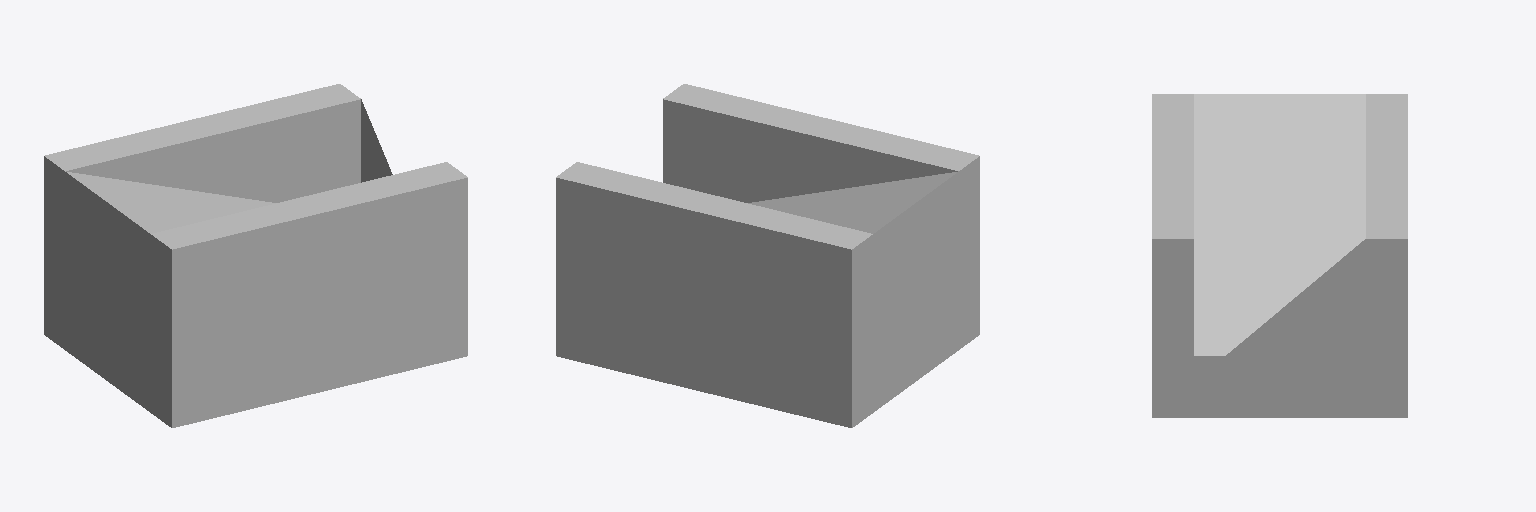
Rendered from roadTile_225.obj.
3 views of the same model, side by side, from view 1: azimuth 30°, elevation 25°; view 2: azimuth 150°, elevation 25°; view 3: azimuth 270°, elevation 25° (orthographic).
Visible parts, largest first — view 1: Mesh1 Group1 Model; view 2: Mesh1 Group1 Model; view 3: Mesh1 Group1 Model.
Boxes of the visible parts, x1=… form: Mesh1 Group1 Model: x1=44, y1=84, x2=467, y2=427; Mesh1 Group1 Model: x1=556, y1=84, x2=979, y2=427; Mesh1 Group1 Model: x1=1152, y1=94, x2=1407, y2=417.
Size of the model in its own units: 3 by 1.73 by 2.25.